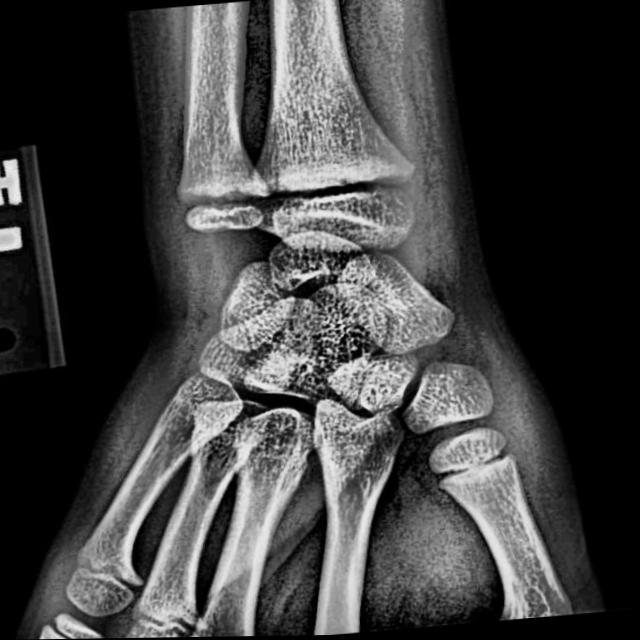fracture: (72, 545, 146, 605)
